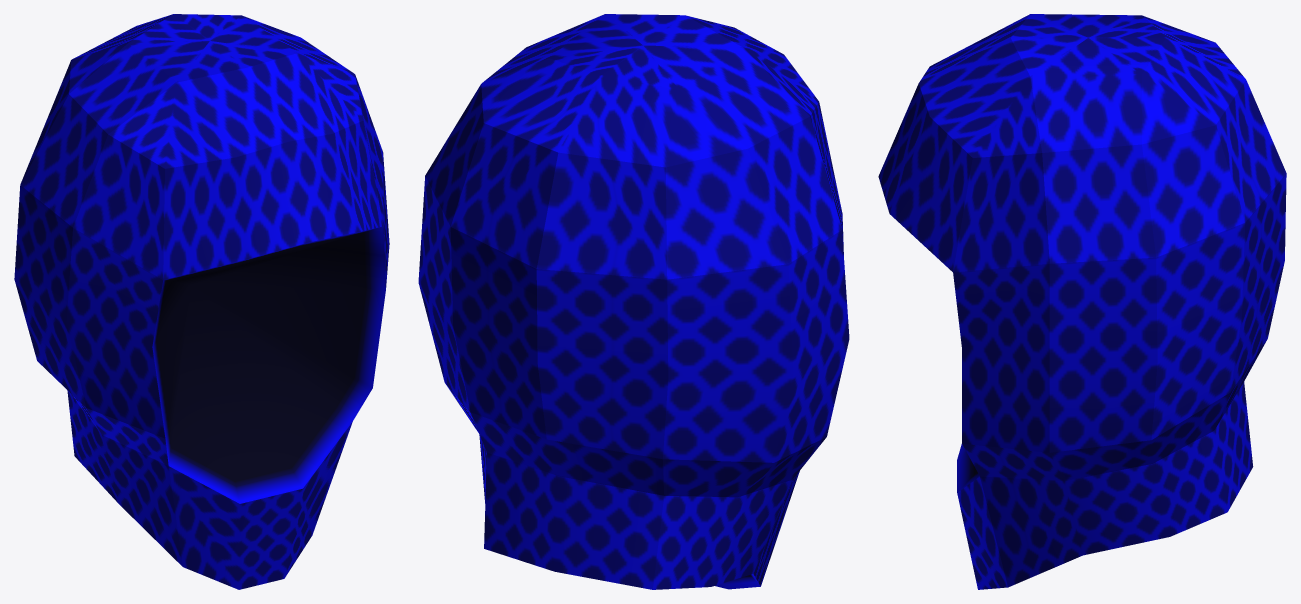
The model's file is MailCoif.fbx.
3 views of the same model, side by side, from view 1: azimuth 30°, elevation 25°; view 2: azimuth 150°, elevation 25°; view 3: azimuth 270°, elevation 25° (orthographic). The views are drawn at different scales.
Parts seen in each view (by area): view 1: MailCoif; view 2: MailCoif; view 3: MailCoif.
Boxes of the visible parts, x1=… form: MailCoif: x1=14, y1=14, x2=389, y2=589; MailCoif: x1=418, y1=14, x2=849, y2=589; MailCoif: x1=878, y1=14, x2=1286, y2=589.
Bounding box in the file's own units: 27.41 × 40.6 × 27.78.
